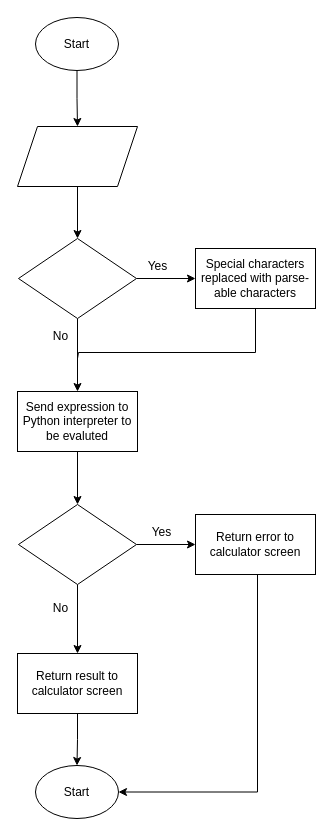
The diagram is 333 pixels wide and 836 high, and some of its shapes have lost their labels. The centre of each missing label's shape, as x and y in pixels:
Are there any characters that can't be parsed?: point 77,278
Are there any errors?: point 77,544
User presses "=": point 77,156
